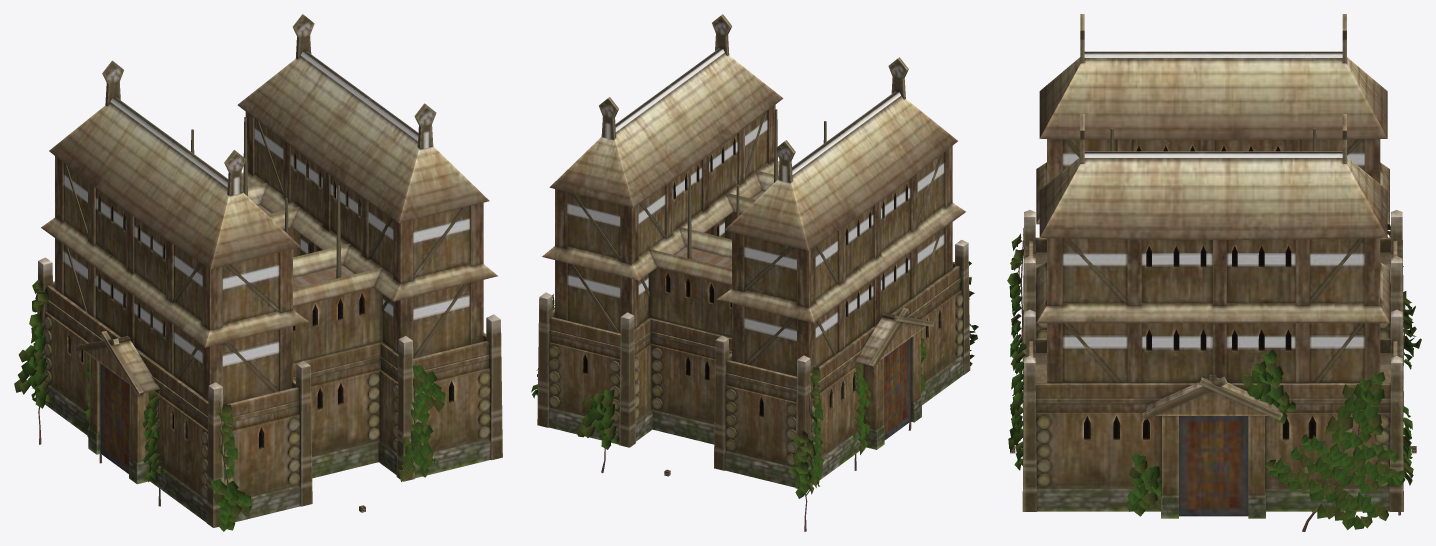
The model's file is 109-citadelcenter.glb.
3 renders of one model, left to right at view 1: azimuth 30°, elevation 25°; view 2: azimuth 150°, elevation 25°; view 3: azimuth 270°, elevation 25°, orthographic. The views are drawn at different scales.
Size of the model in its own units: 10.07 by 11.58 by 10.35.
Materials: 3 (3 with a texture image).
